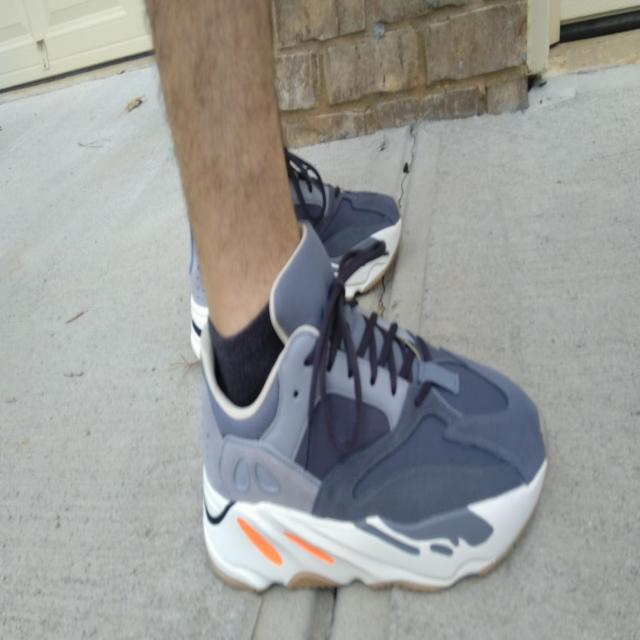shoe: (197, 222, 548, 594), (189, 149, 403, 361)
